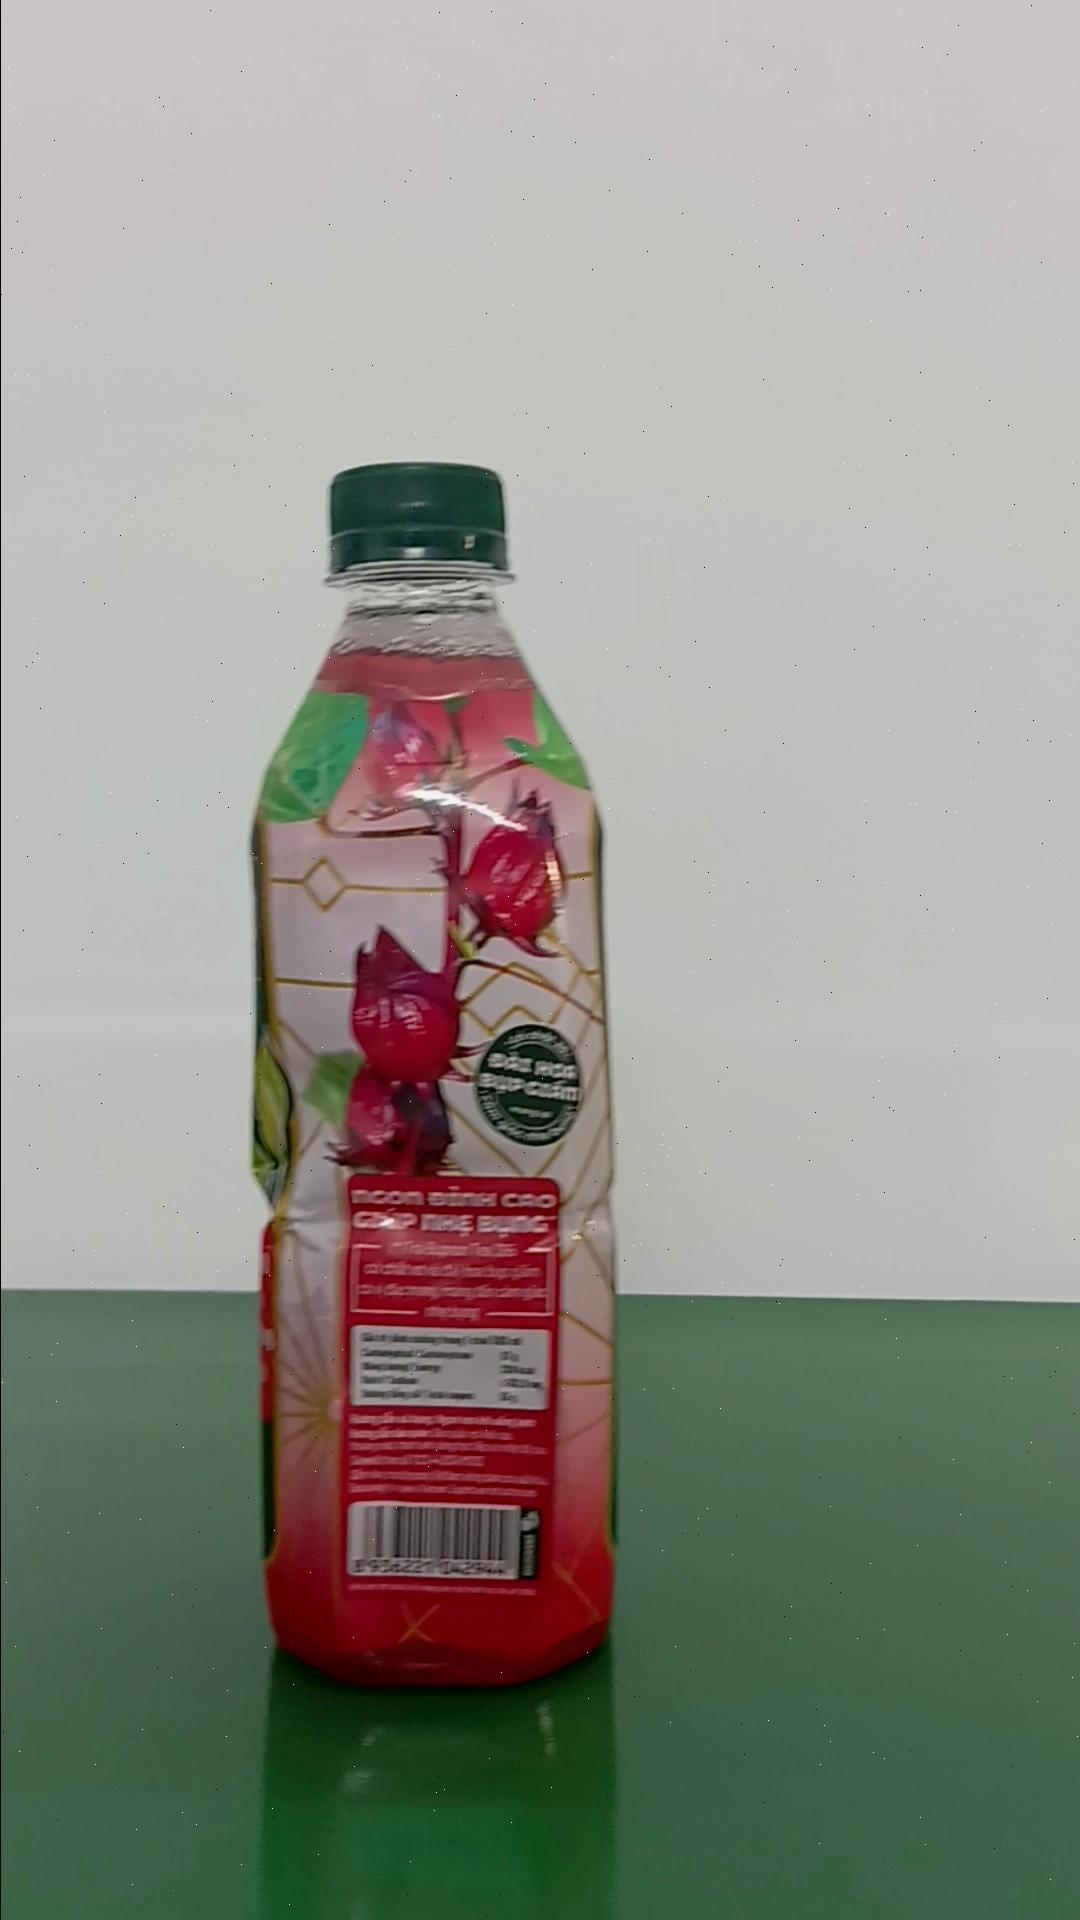loi meo sp: (247, 458, 618, 1688)
